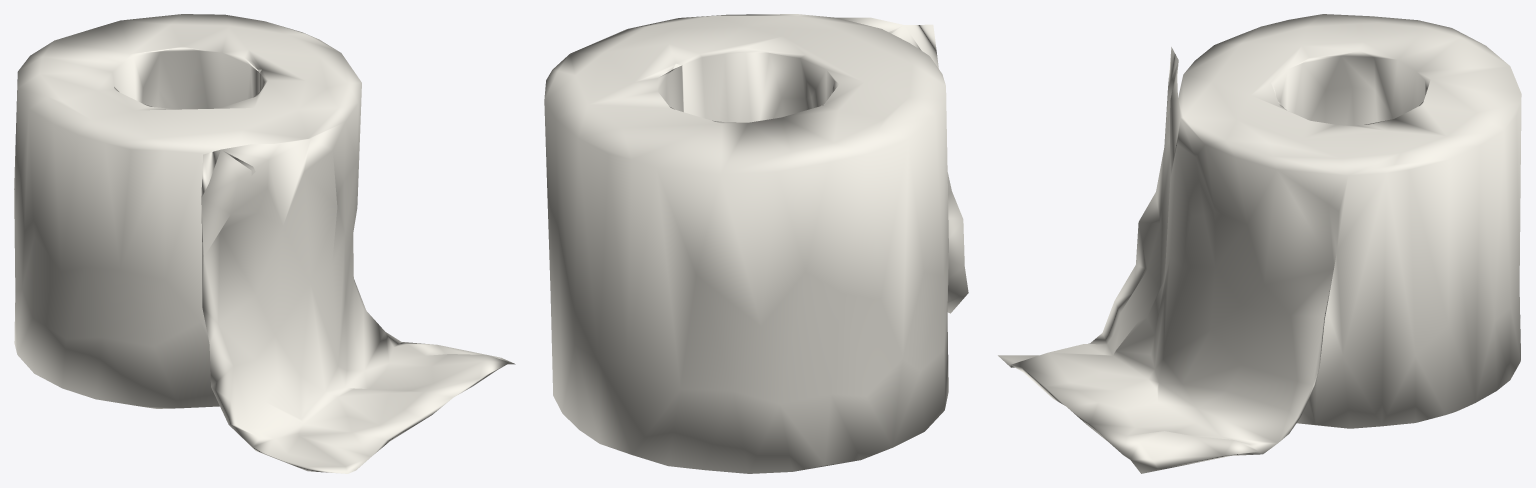
Rendered from SM_prop_toilet_paper.fbx.
The picture shows the model from 3 angles, left to right: view 1: azimuth 30°, elevation 25°; view 2: azimuth 150°, elevation 25°; view 3: azimuth 270°, elevation 25°; orthographic projection. The views are drawn at different scales.
Visible parts, largest first — view 1: SM_prop_toilet_paper; view 2: SM_prop_toilet_paper; view 3: SM_prop_toilet_paper.
Boxes of the visible parts, x1,y1,x2,y2 form: SM_prop_toilet_paper: (14, 14, 515, 473); SM_prop_toilet_paper: (544, 14, 968, 473); SM_prop_toilet_paper: (998, 14, 1521, 473).
Bounding box in the file's own units: 28.07 × 20 × 32.82.
1 material, 1 textured.
